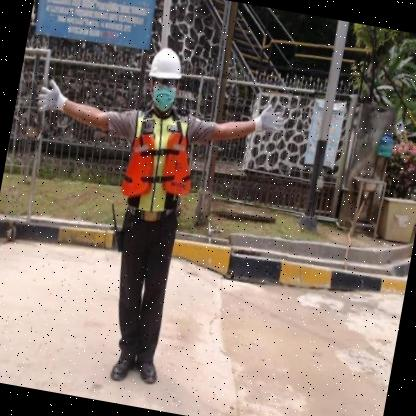bota: (130, 348, 165, 389), (107, 342, 138, 387)
capacete: (144, 42, 189, 84)
oculos: (146, 75, 180, 90)
